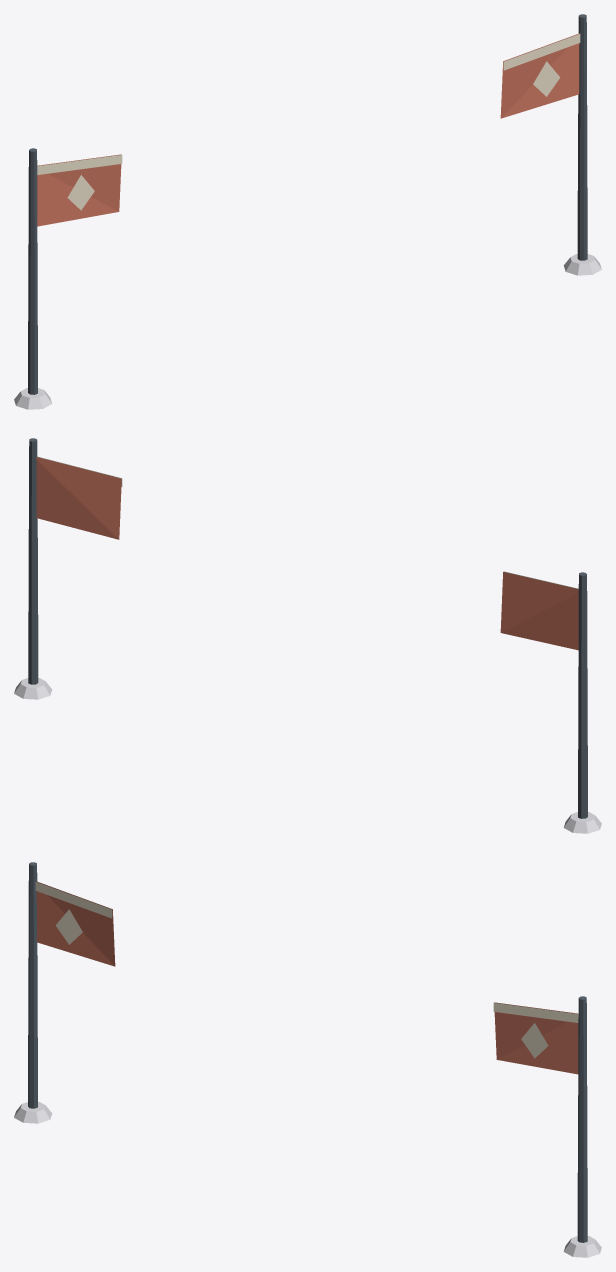
File: gate-coral.glb
3 views of the same model, one above another, from view 1: azimuth 30°, elevation 25°; view 2: azimuth 150°, elevation 25°; view 3: azimuth 330°, elevation 25° (orthographic).
Parts seen in each view (by area): view 1: gate-coral; view 2: gate-coral; view 3: gate-coral.
Part boxes in pixels (<box>): gate-coral: <box>14,14,601,409</box>; gate-coral: <box>14,438,601,833</box>; gate-coral: <box>14,862,601,1257</box>.
Bounding box in the file's own units: 6.8 × 2.8 × 0.4.
